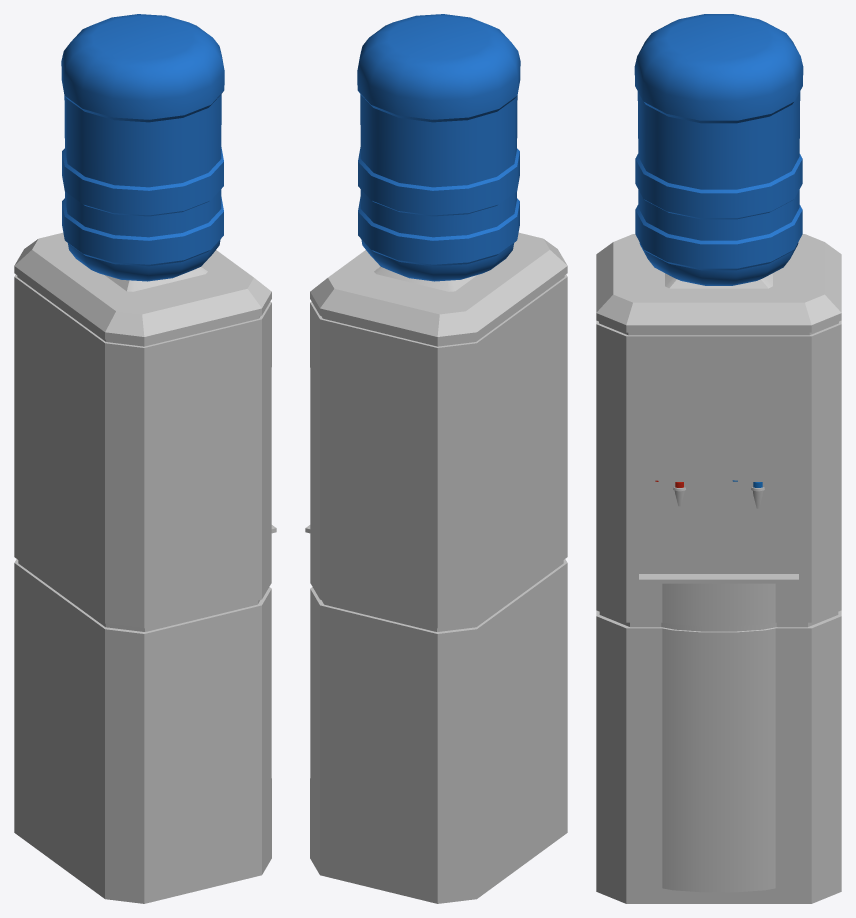
File: cooler.glb
The picture shows the model from 3 angles, left to right: view 1: azimuth 30°, elevation 25°; view 2: azimuth 150°, elevation 25°; view 3: azimuth 270°, elevation 25°; orthographic projection. The views are drawn at different scales.
Parts seen in each view (by area): view 1: cooler; view 2: cooler; view 3: cooler.
Part boxes in pixels (<box>): cooler: <box>14,14,276,903</box>; cooler: <box>305,14,567,903</box>; cooler: <box>596,14,841,903</box>.
Size of the model in its own units: 0.265 by 1.15 by 0.3104.
